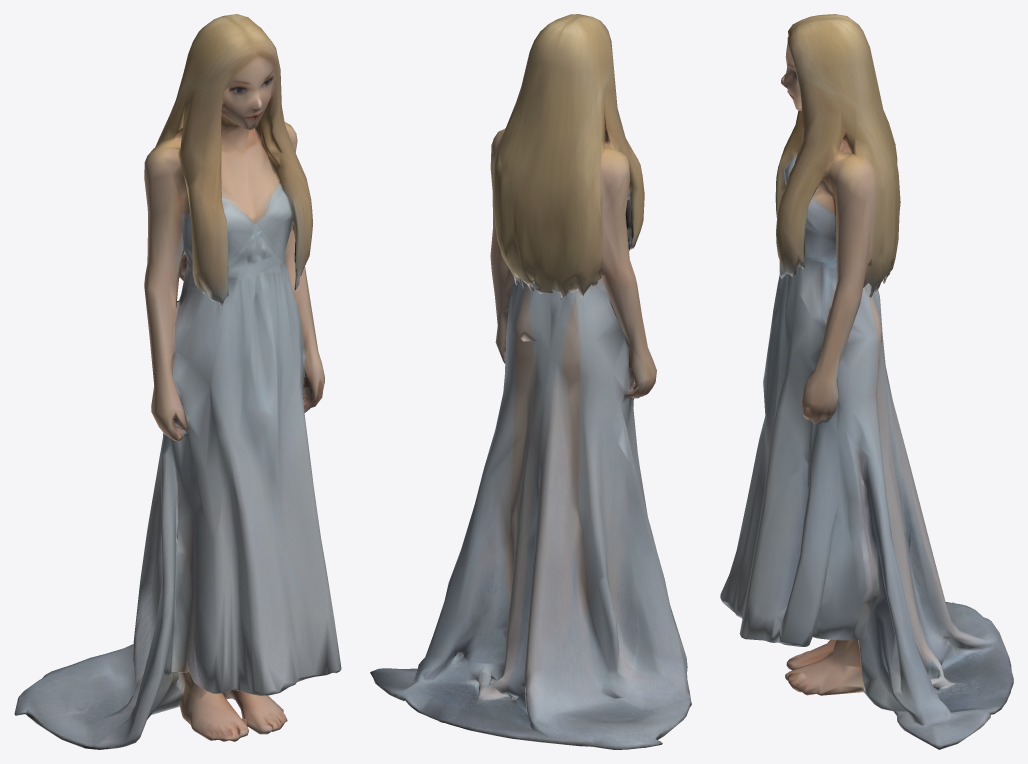
File: Meshy_AI_Full_3D_character_mod_0521231757_texture.glb
The picture shows the model from 3 angles, left to right: view 1: azimuth 30°, elevation 25°; view 2: azimuth 150°, elevation 25°; view 3: azimuth 270°, elevation 25°; orthographic projection. The views are drawn at different scales.
Size of the model in its own units: 0.9473 by 2 by 0.8067.
1 material, 1 textured.
